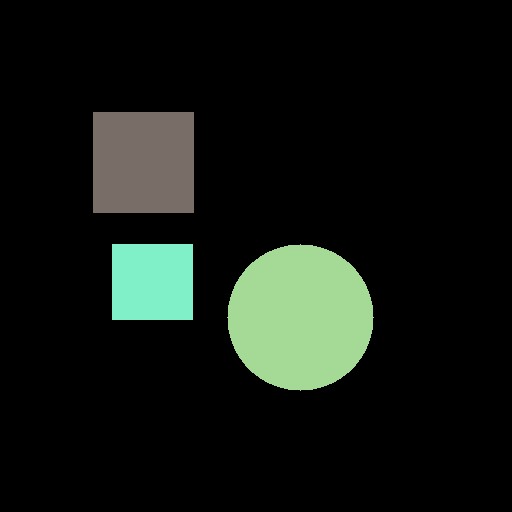circle: (227, 244, 373, 390)
square: (93, 112, 193, 212), (112, 244, 192, 319)
